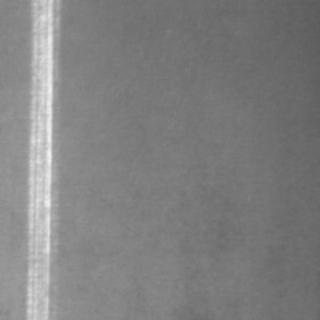scratches: (18, 0, 60, 316)
